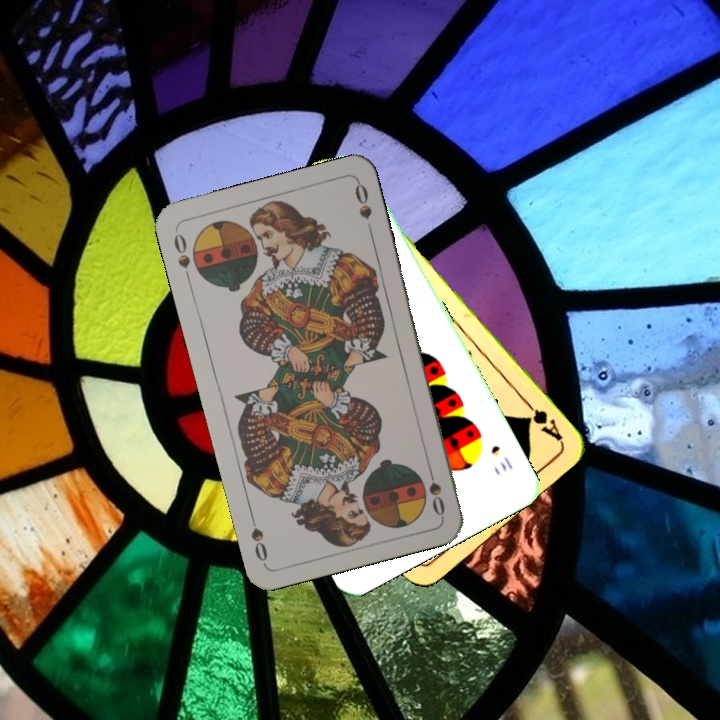GA: (519, 395, 565, 444)
S10: (486, 441, 516, 474)
SO: (423, 460, 448, 519), (169, 227, 194, 285)
